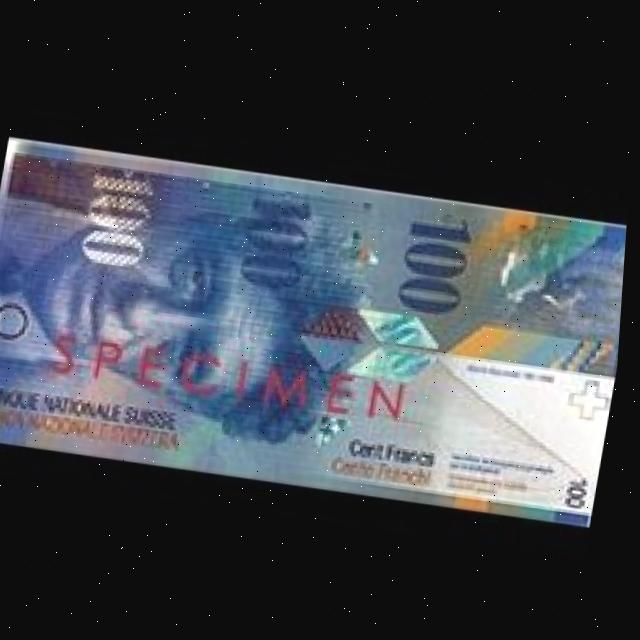banknote: (0, 136, 633, 520), (236, 188, 326, 303), (77, 161, 162, 281), (398, 207, 483, 318), (553, 454, 602, 514)
